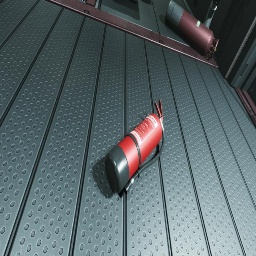FireExtinguisher ]: (105, 99, 165, 195)
NitrogenTank ,: (165, 0, 219, 59)
